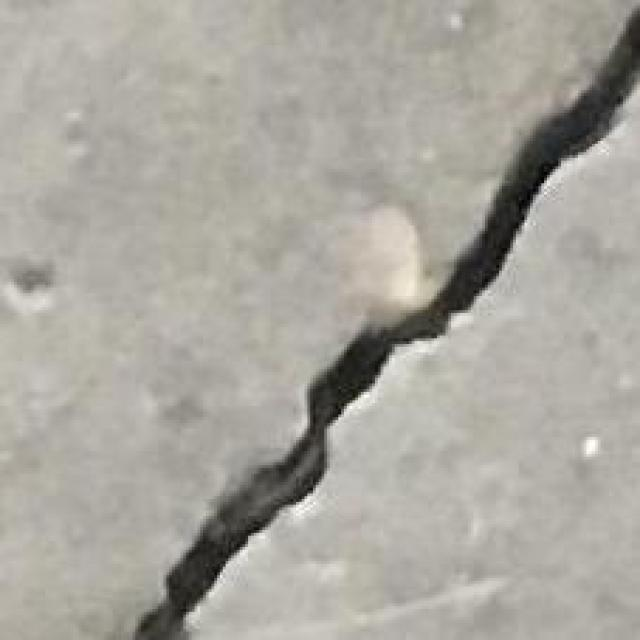diagonal crack: (133, 8, 639, 639)
